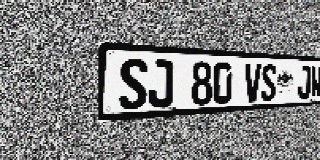0: (213, 62, 232, 104)
8: (191, 61, 213, 106)
J: (148, 59, 173, 108), (298, 65, 311, 99)
S: (119, 58, 147, 110), (261, 64, 277, 101)
V: (244, 63, 261, 102)
W: (310, 66, 320, 98)
